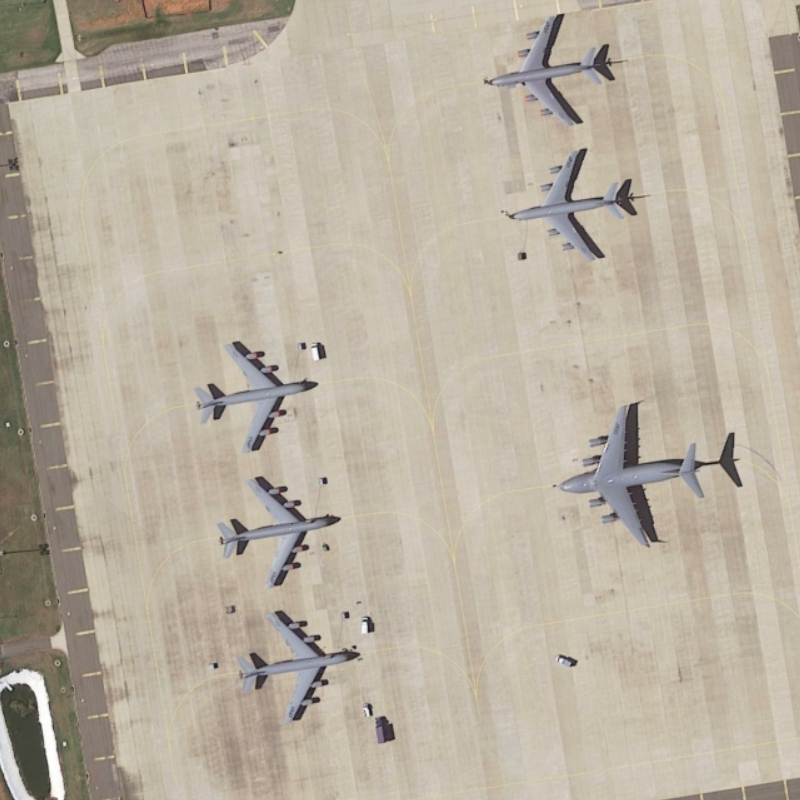A14: (504, 139, 636, 266), (232, 605, 364, 729), (191, 332, 319, 458), (482, 11, 618, 128), (218, 471, 340, 590)
A3: (559, 401, 709, 550)
